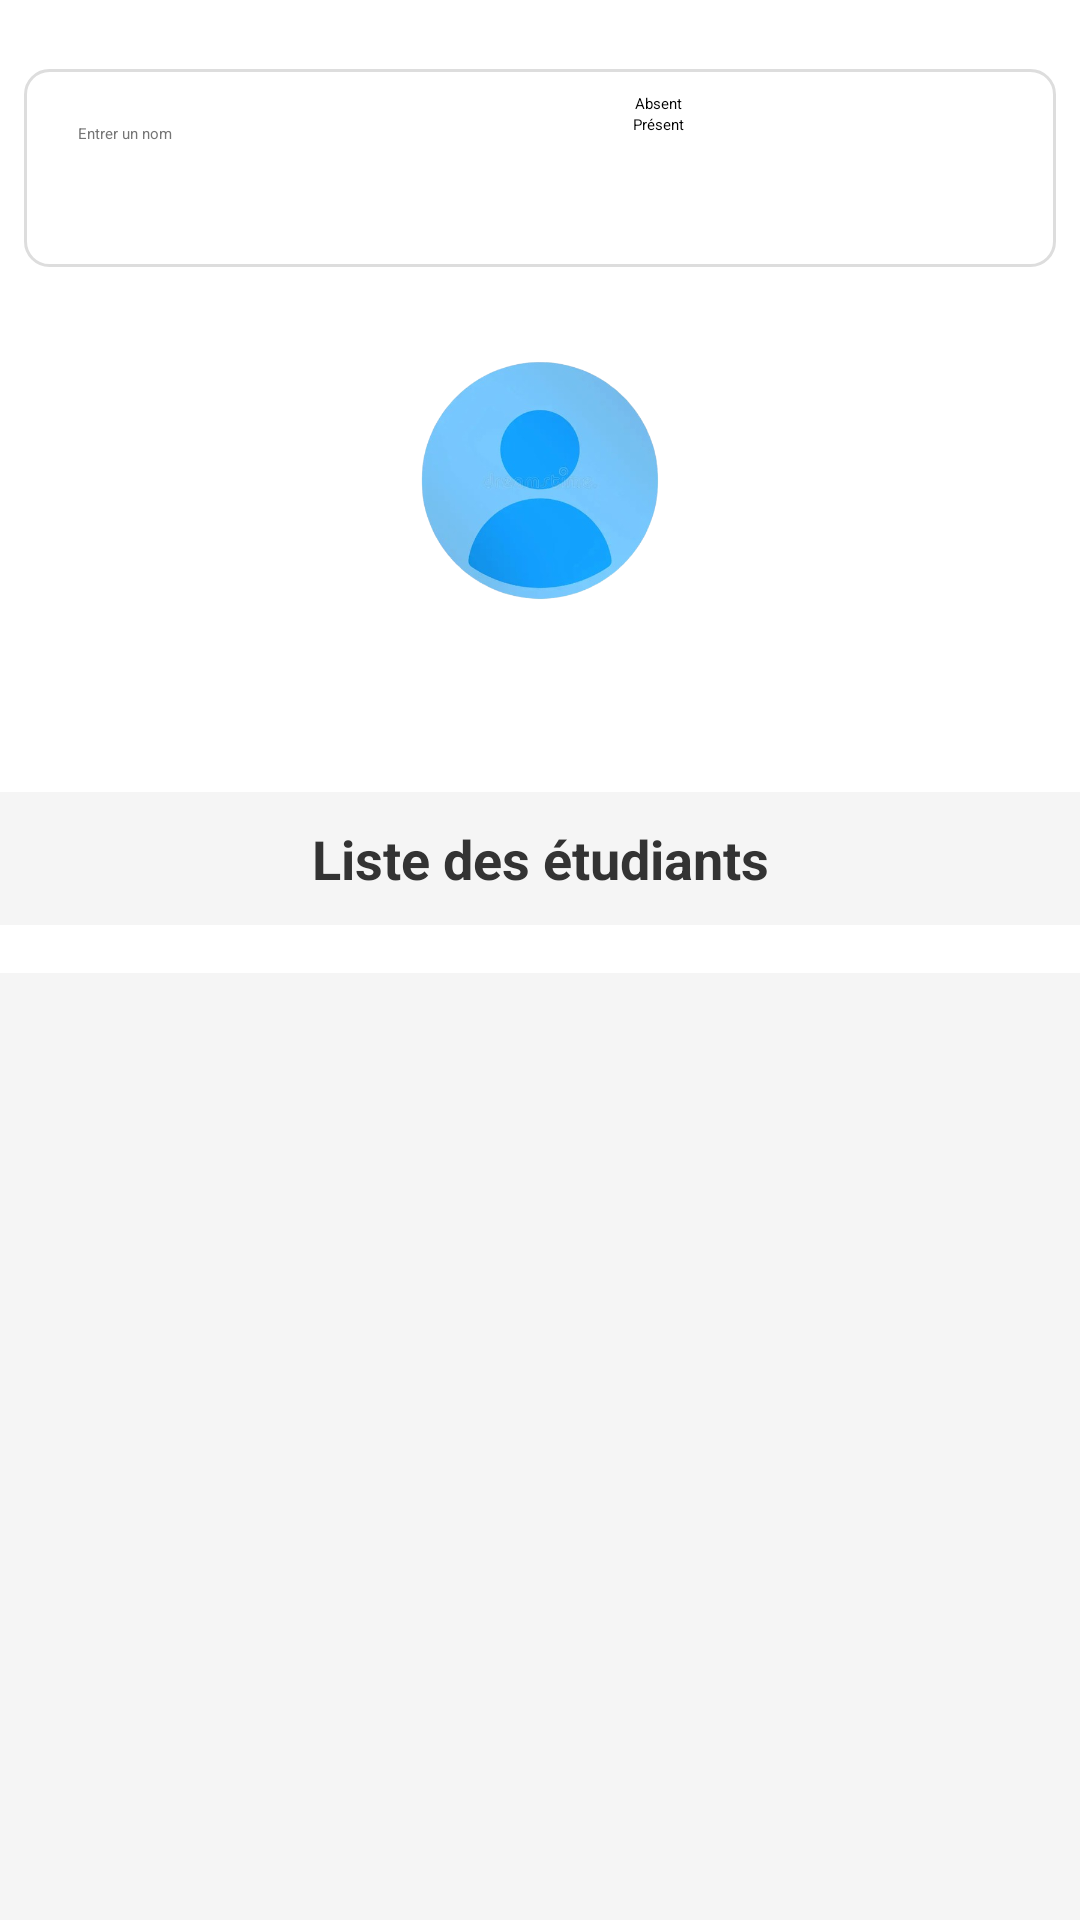

Where to tap for icons on this 1080px x 1920px app screen, as point (x, y):
profile: point (540, 480)
